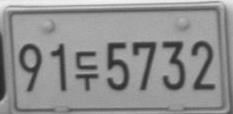1: (47, 42, 73, 91)
2: (190, 39, 216, 90)
3: (161, 39, 186, 91)
5: (105, 41, 130, 91)
7: (131, 40, 158, 90)
9: (17, 41, 42, 91)
두: (75, 50, 99, 91)
